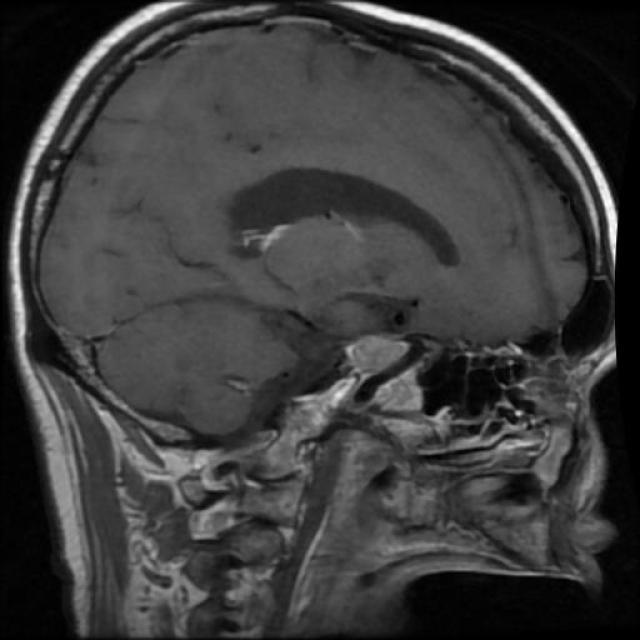pituitary: (331, 314, 428, 414)
